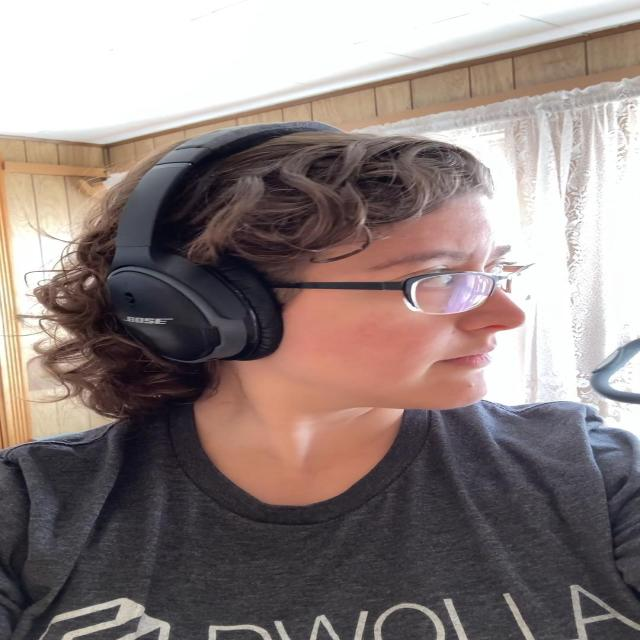no-helmet: (270, 188, 526, 410)
